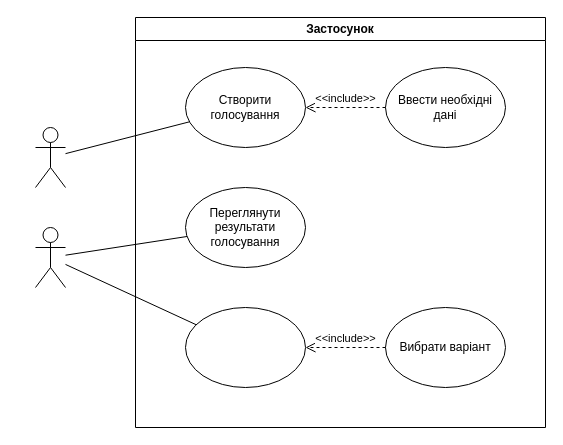
Some shapes in this 563 by 445 pixel diagram are drawn without their labels. The shapes that lost their labels are listed below. From the top down, each one's centre as x and y in pixels, then its label:
At point (50, 157): "Організатор".
At point (50, 257): "Виборець".
At point (245, 347): "Проголосувати".
